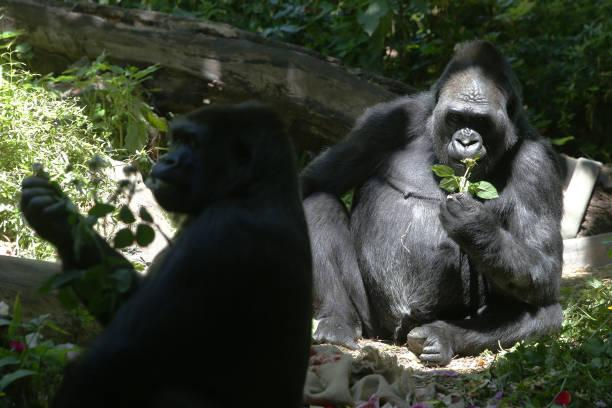gorille_Autres: (24, 69, 320, 405), (330, 27, 612, 366)
